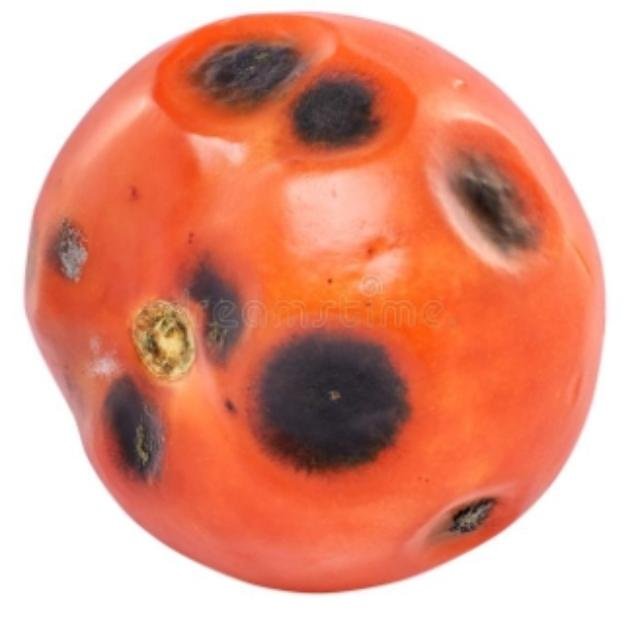defect: (20, 9, 606, 598)
